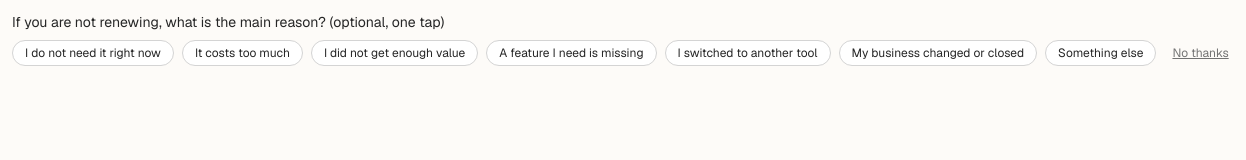
FeedbackPrompt › a failure says it can be ignored and does not block anything
Click the button "I switched to another tool" at (748, 53), box [664,40,830,66]
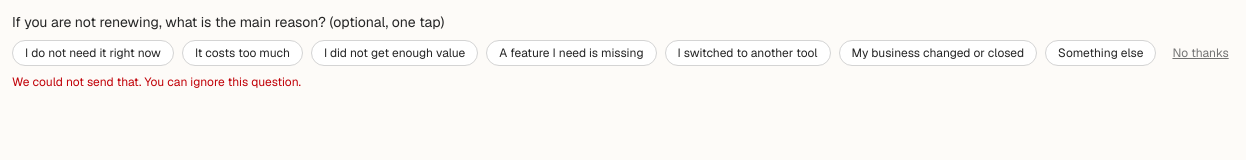
Expected: the message shows "can ignore this question", [12,74,301,90]
